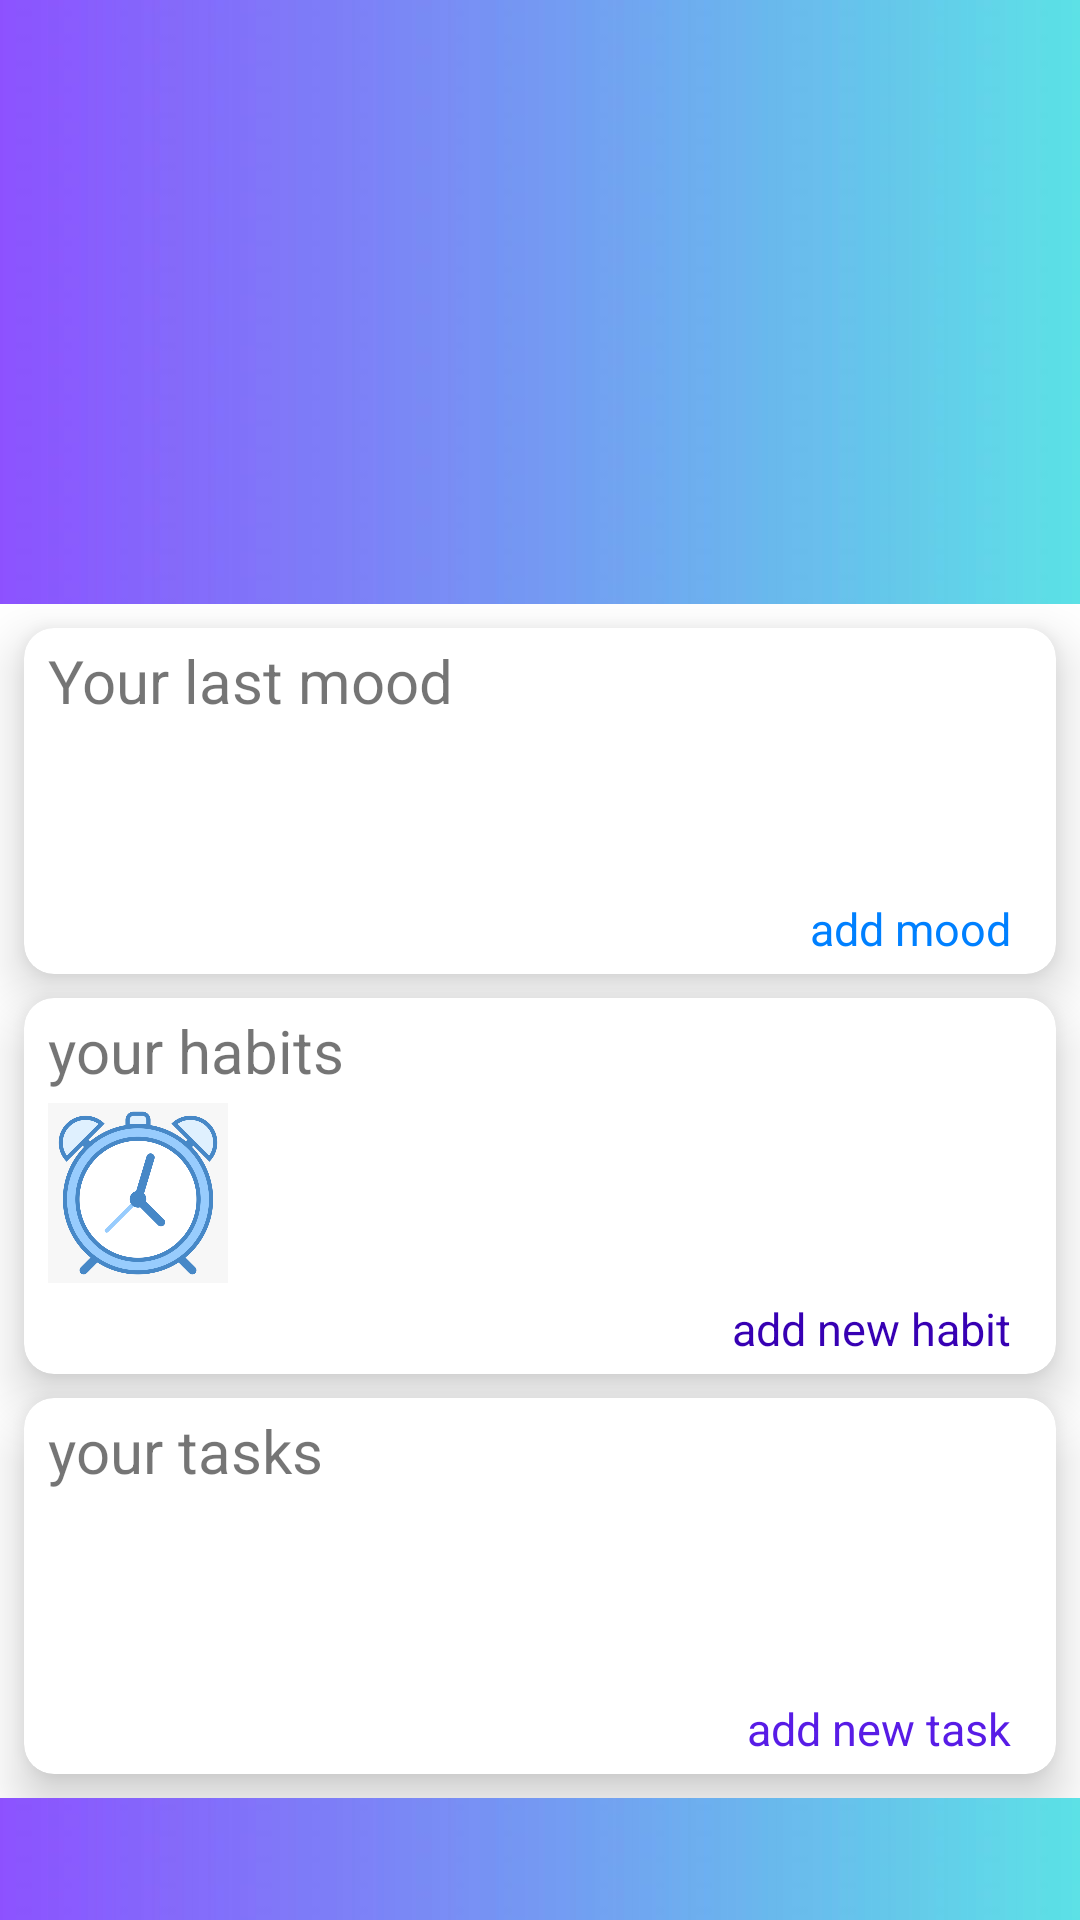

Named icons in this screenshot (1080 x 1920) and their centers, (x=x, y=y):
alarm clock: (x=138, y=1193)
